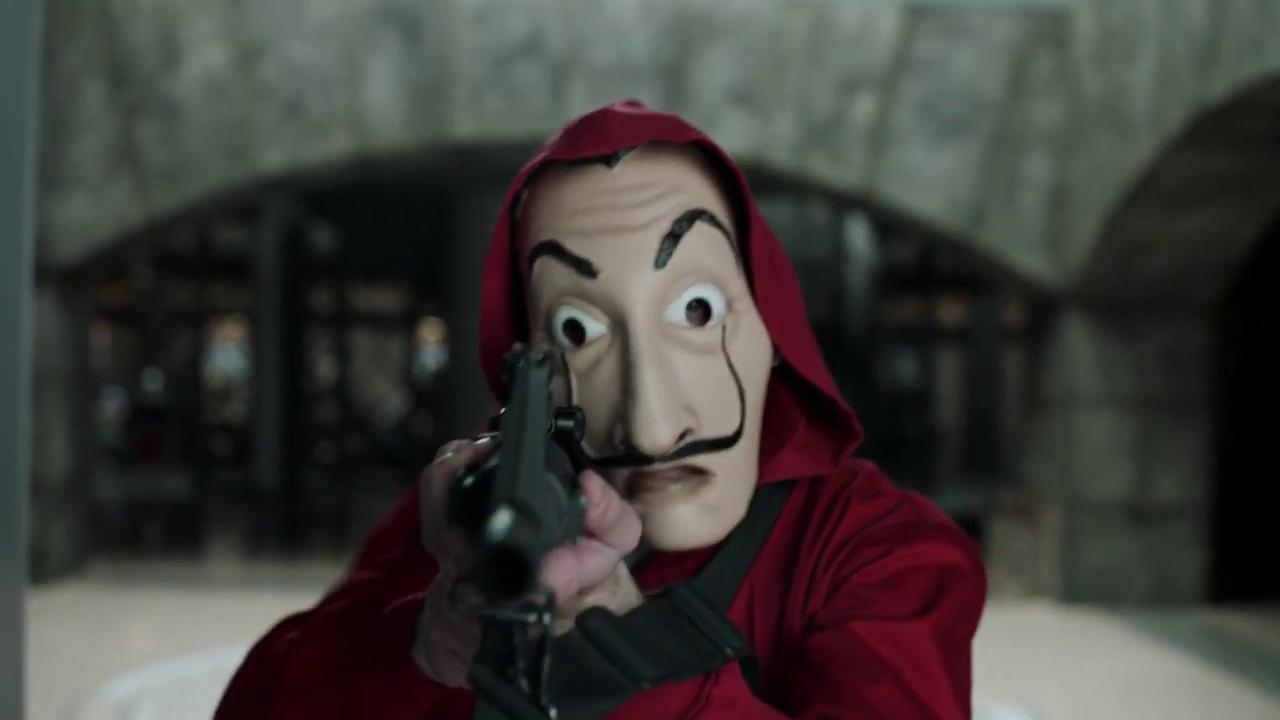criminal: (213, 95, 989, 720)
weapon: (440, 339, 590, 720)
